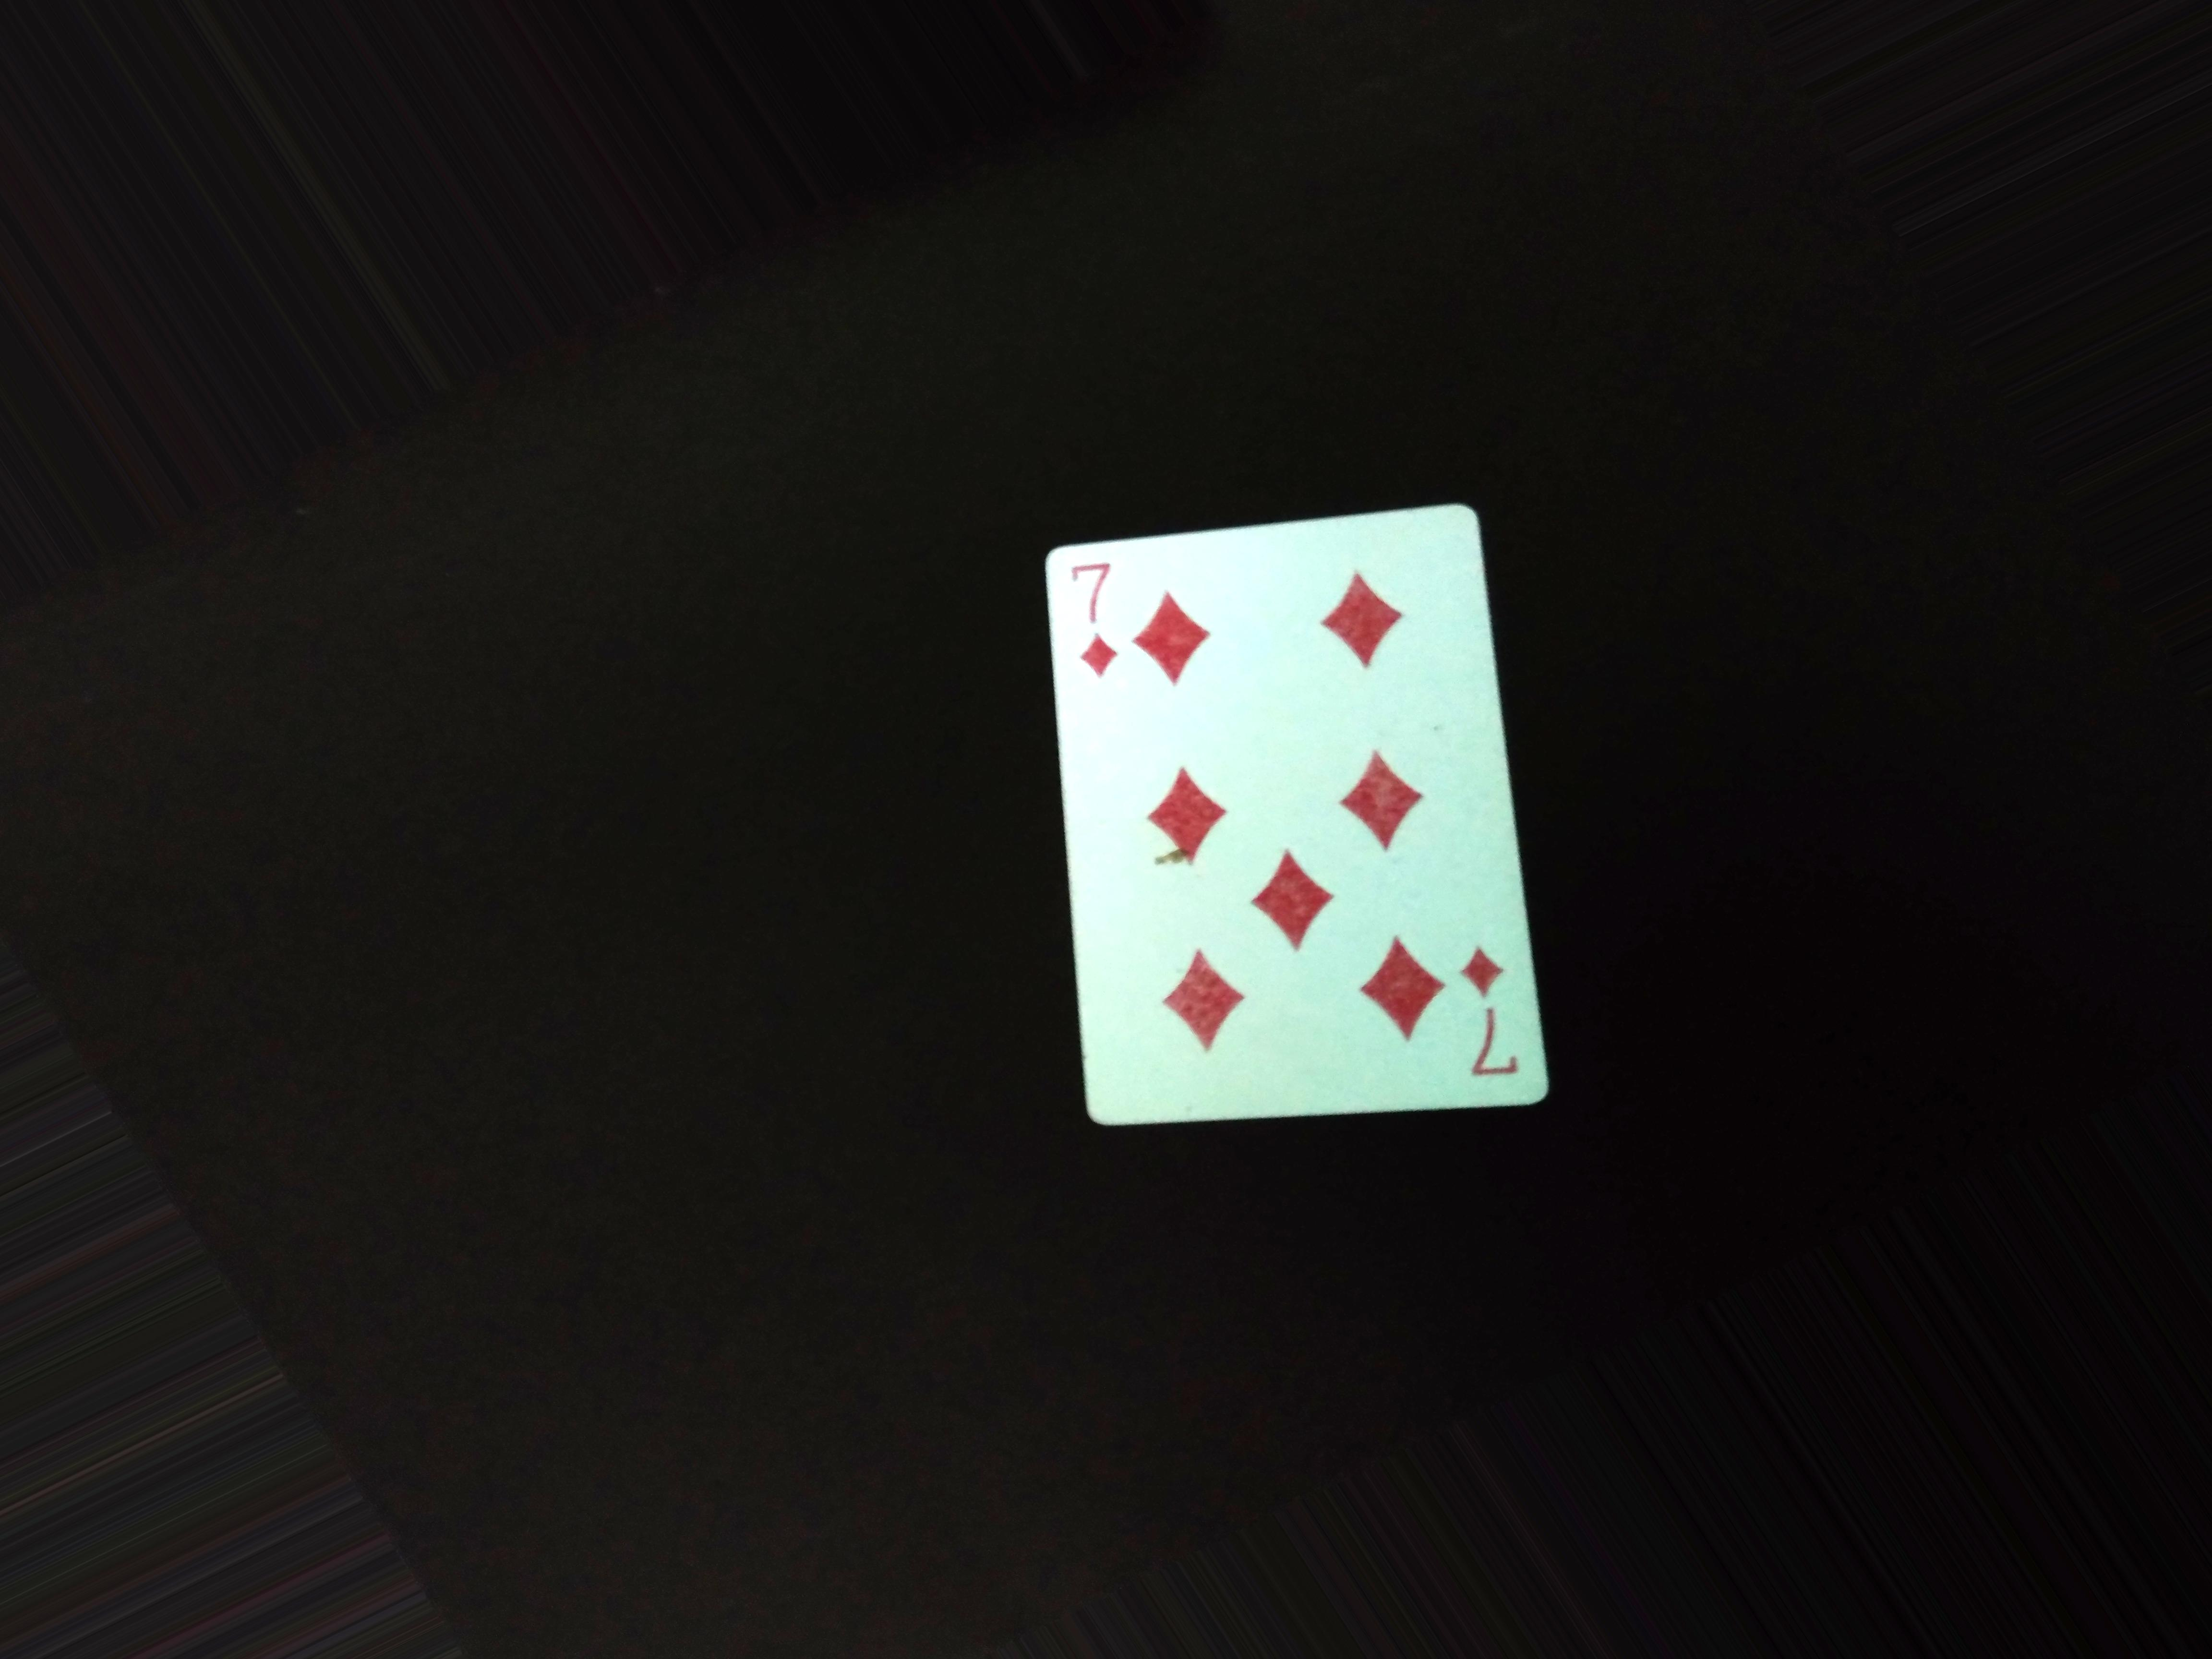7D: (1057, 551, 1148, 683)
